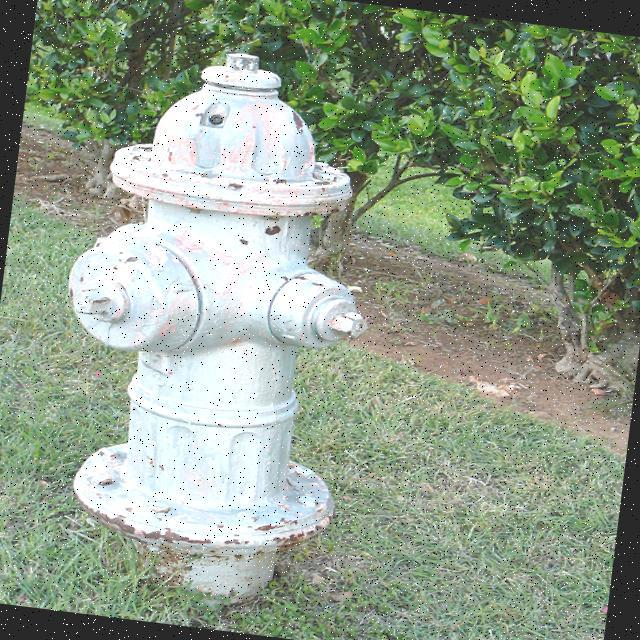fire_hydrant: (29, 26, 404, 626)
